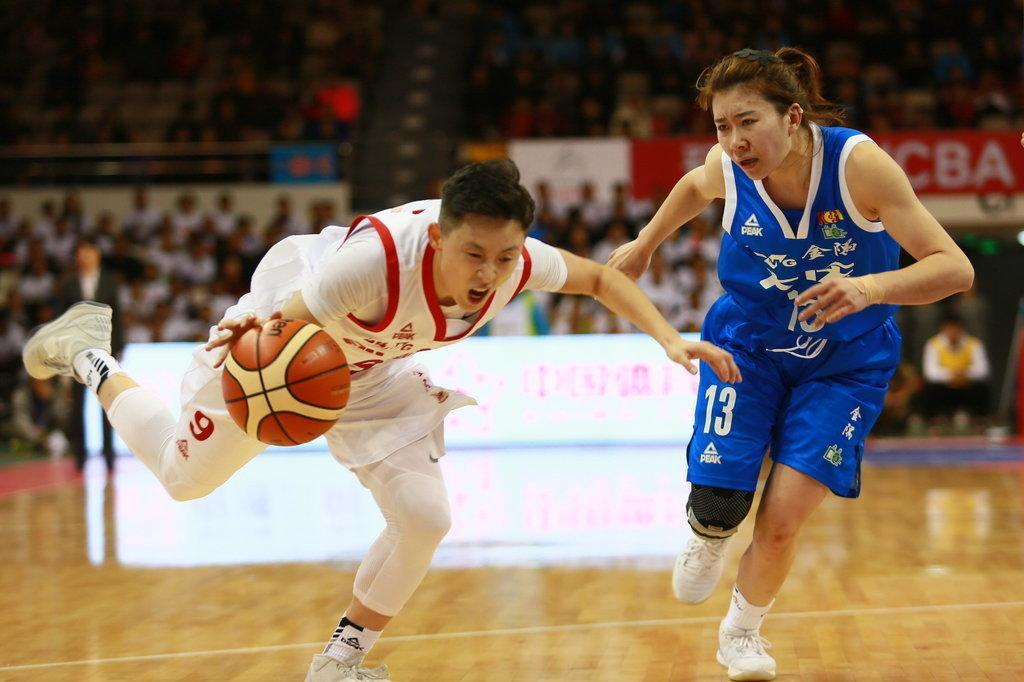ball: (219, 317, 349, 446)
